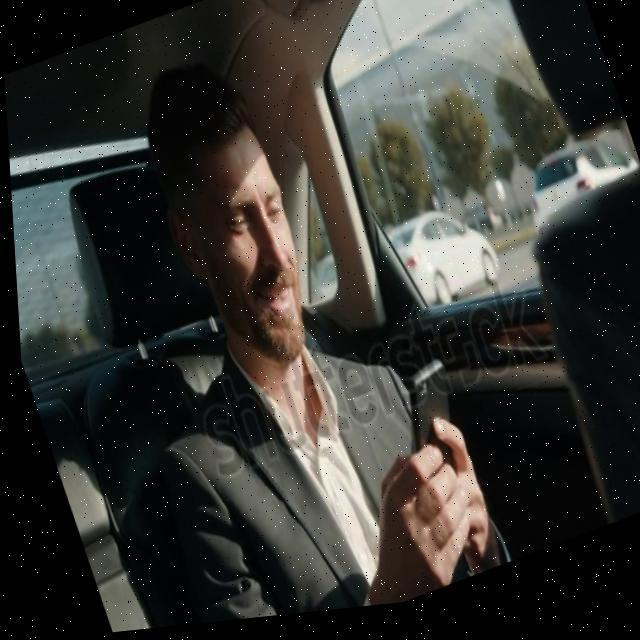PhoneCall: (383, 362, 485, 536)
